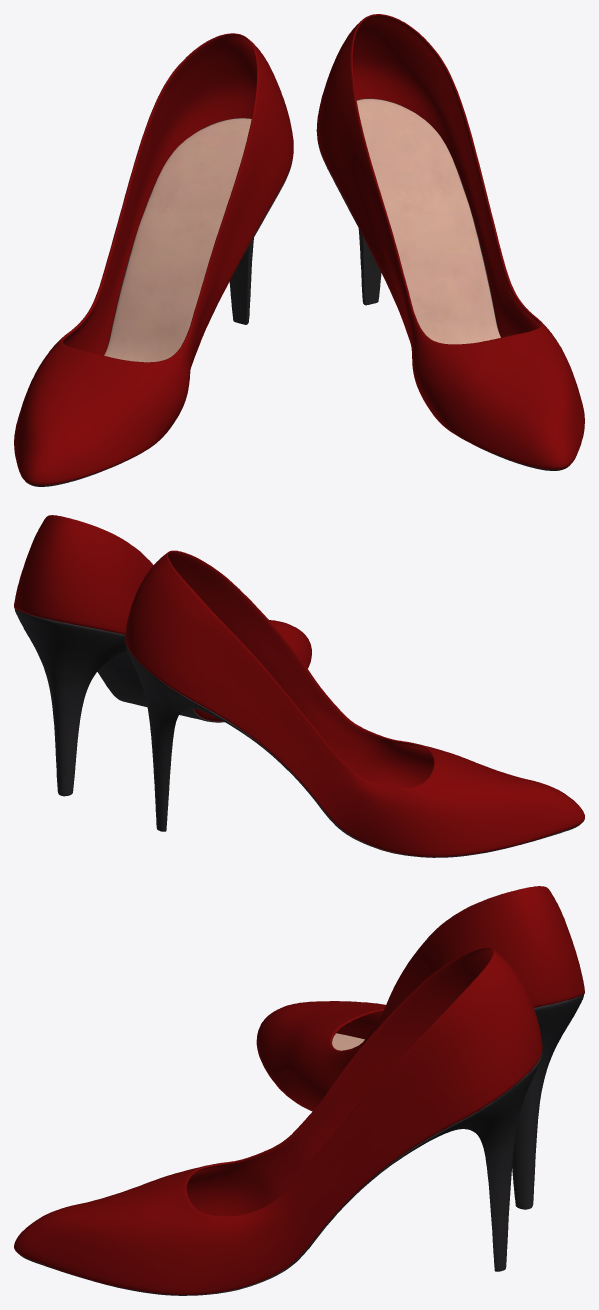
Rendered from shoes-transformed.glb.
3 renders of one model, top to bottom at view 1: azimuth 30°, elevation 25°; view 2: azimuth 150°, elevation 25°; view 3: azimuth 270°, elevation 25°, orthographic. The views are drawn at different scales.
Parts seen in each view (by area): view 1: Outside, Inside, Bottom; view 2: Outside, Bottom; view 3: Outside, Bottom.
Boxes of the visible parts, <box> form: Outside: <box>14,14,584,485</box>; Inside: <box>104,99,500,362</box>; Bottom: <box>25,98,569,486</box>; Outside: <box>14,515,584,857</box>; Bottom: <box>14,609,580,857</box>; Outside: <box>14,886,584,1294</box>; Bottom: <box>19,995,583,1295</box>.
Size of the model in its own units: 2 by 1.09 by 1.79.
Materials: 1 (1 with a texture image).
